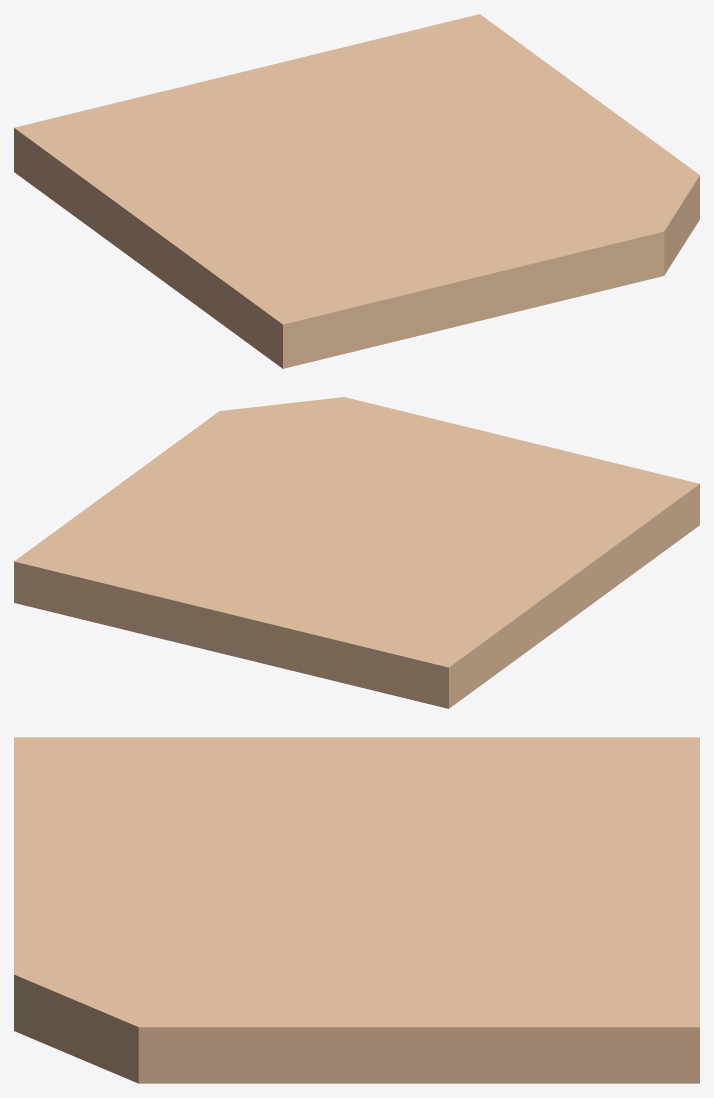
File: floorCorner.glb
The picture shows the model from 3 angles, top to bottom: view 1: azimuth 30°, elevation 25°; view 2: azimuth 150°, elevation 25°; view 3: azimuth 270°, elevation 25°; orthographic projection. The views are drawn at different scales.
Visible parts, largest first — view 1: floorCorner(Clone); view 2: floorCorner(Clone); view 3: floorCorner(Clone).
Boxes of the visible parts, x1,y1,x2,y2 form: floorCorner(Clone): (14,14,699,368); floorCorner(Clone): (14,397,699,708); floorCorner(Clone): (14,737,699,1083).
Size of the model in its own units: 1.12 by 0.1015 by 1.12.
1 material, 1 textured.
